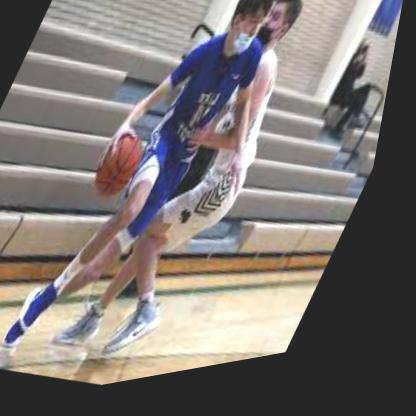basketball: (92, 132, 159, 211)
